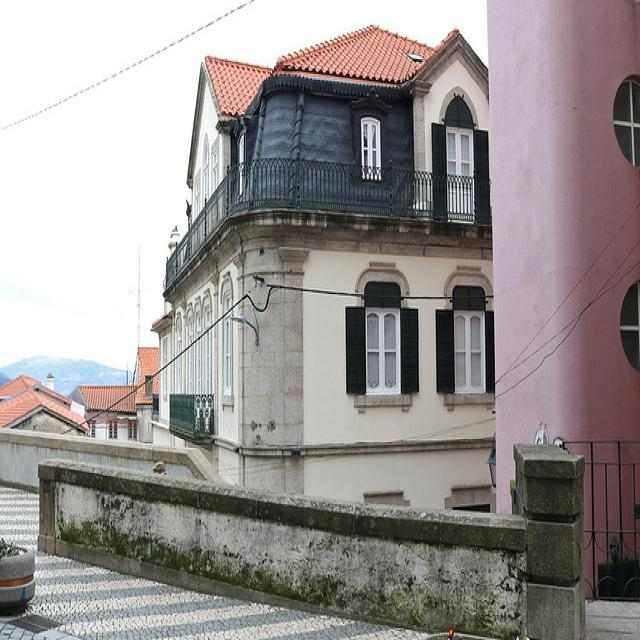building: (144, 18, 498, 520)
